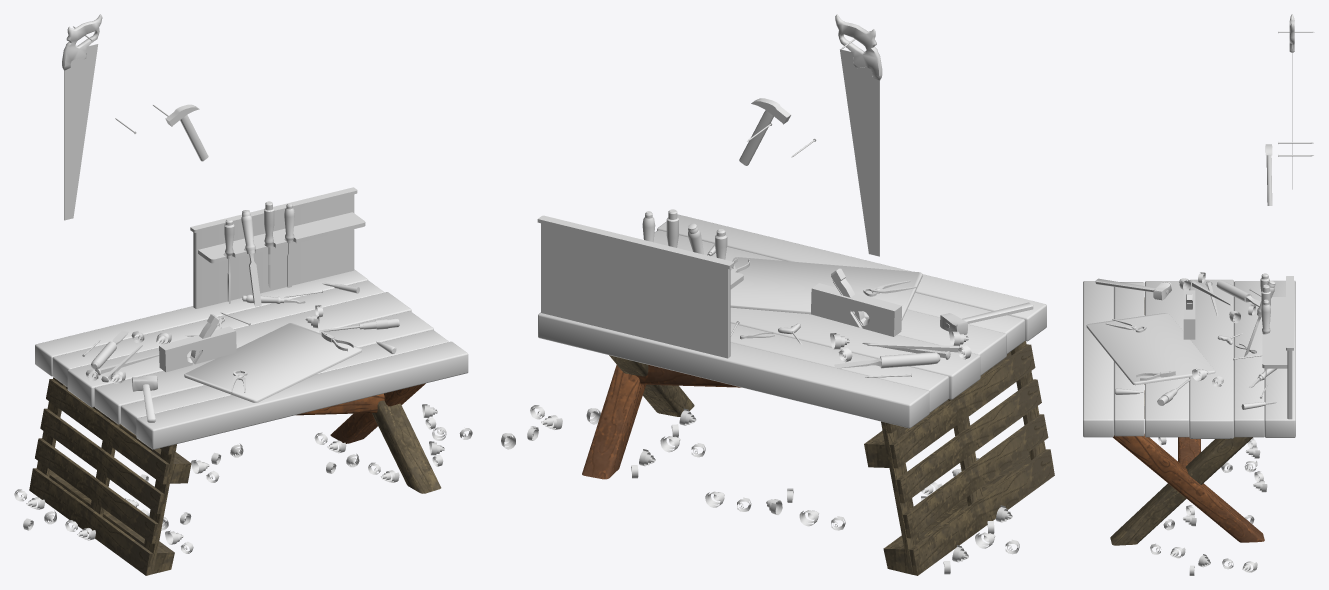
File: Workbench.fbx
3 views of the same model, side by side, from view 1: azimuth 30°, elevation 25°; view 2: azimuth 150°, elevation 25°; view 3: azimuth 270°, elevation 25° (orthographic). The views are drawn at different scales.
Visible parts, largest first — view 1: Workbench, Paddon, WorkTool; view 2: Workbench, Paddon, WorkTool; view 3: Workbench, Paddon, WorkTool.
Boxes of the visible parts, box(x1,y1,x2,y2) form: Workbench: box(35, 187, 468, 449); Paddon: box(29, 377, 441, 575); WorkTool: box(14, 14, 472, 553); Workbench: box(537, 214, 1046, 428); Paddon: box(582, 341, 1054, 575); WorkTool: box(501, 14, 1033, 574); Workbench: box(1083, 276, 1295, 438); Paddon: box(1110, 297, 1264, 545); WorkTool: box(1095, 14, 1314, 575).
Size of the model in its own units: 234 by 238 by 121.
